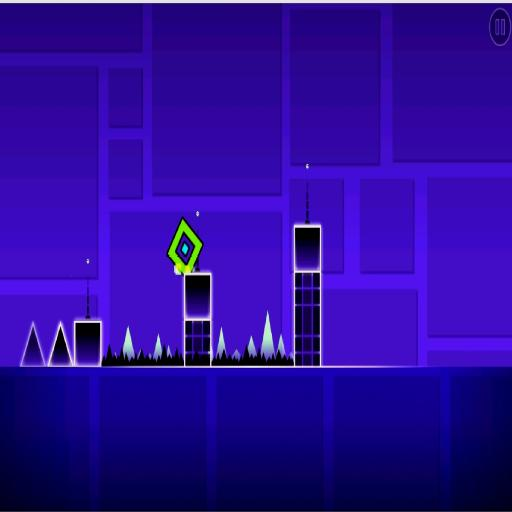block: (294, 224, 321, 367), (184, 274, 211, 365), (74, 321, 101, 365), (185, 274, 210, 319)
player: (167, 216, 202, 273)
spike: (20, 323, 45, 366), (49, 323, 72, 365), (261, 312, 275, 359), (122, 326, 134, 360), (217, 327, 226, 355), (278, 333, 286, 357), (153, 334, 161, 357), (248, 336, 256, 356), (233, 350, 240, 357)
